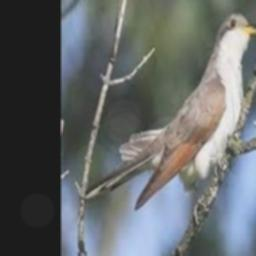Cuckoo: (119, 13, 256, 211)
